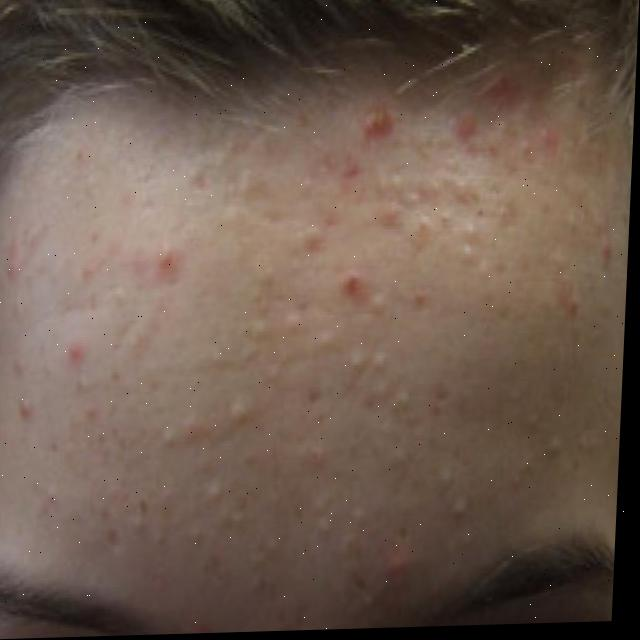Acne: (0, 93, 625, 585)
